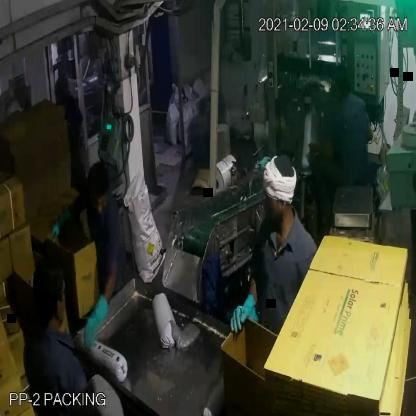glove: (70, 291, 116, 355), (41, 202, 84, 245), (224, 292, 261, 336)
no_glove: (302, 132, 346, 164)
